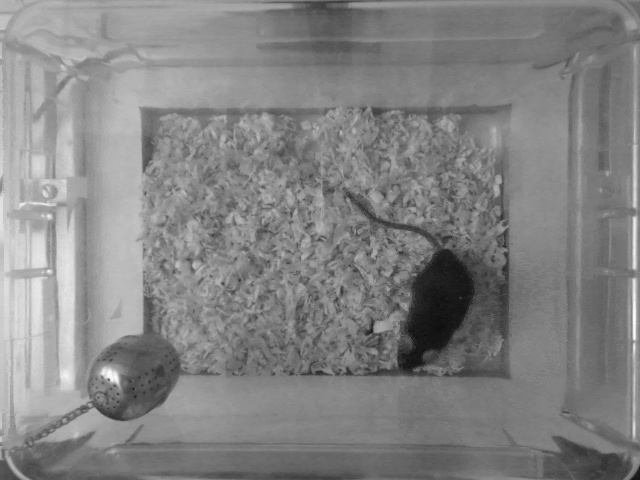mice: (341, 183, 473, 373)
